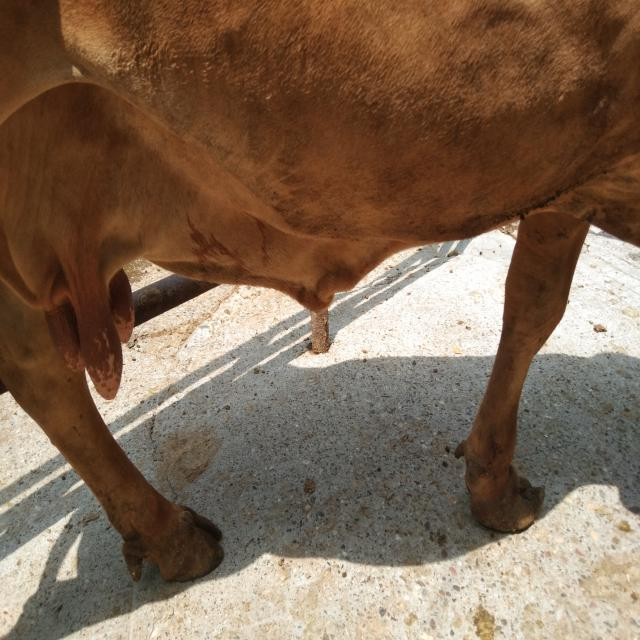Hoof: (454, 438, 545, 534), (121, 503, 224, 583), (310, 307, 330, 354)
